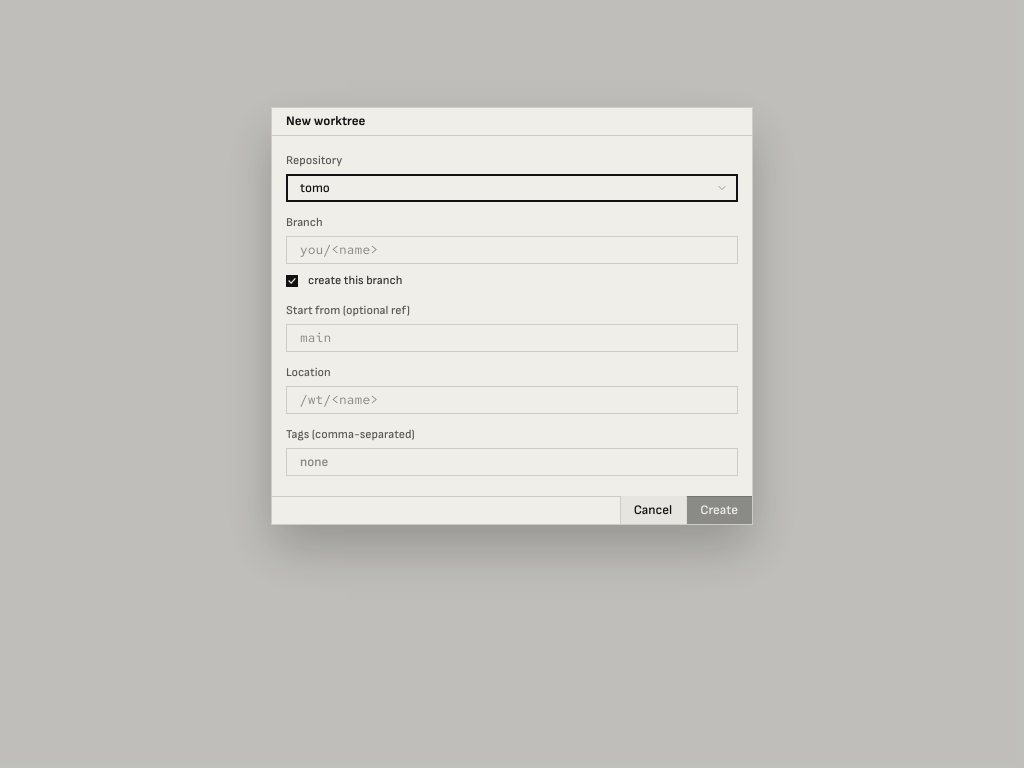
new worktree dialog › without a name field, Create waits for a branch or a path
Expected: the button "Create" is disabled, [686,496,752,524]
Type "feat/x" into the dropdown named "Branch" at [512, 250], box [286,236,738,264]
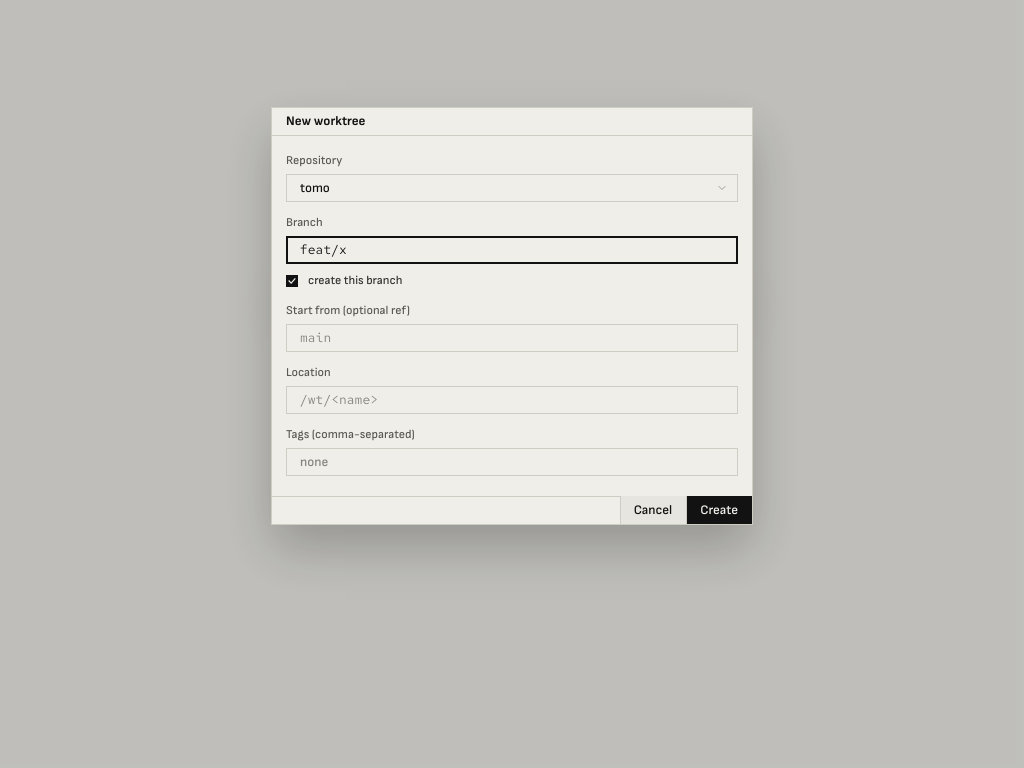
Expected: the button "Create" is enabled, [686,496,752,524]
